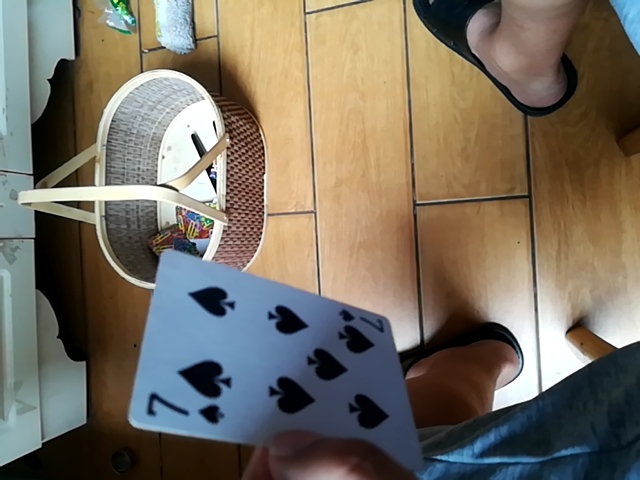ht 7: (131, 251, 423, 463)
